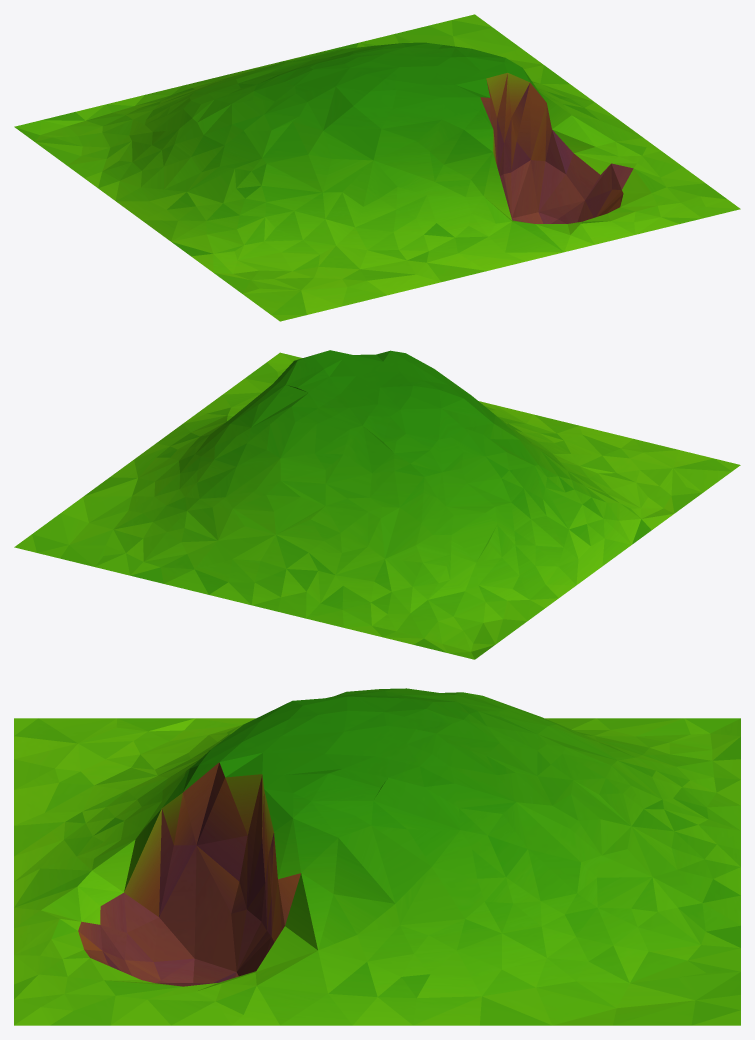
Rendered from GL-Terrain-part-01-LOD2.fbx.
3 views of the same model, one above another, from view 1: azimuth 30°, elevation 25°; view 2: azimuth 150°, elevation 25°; view 3: azimuth 270°, elevation 25° (orthographic). The views are drawn at different scales.
Parts seen in each view (by area): view 1: GL_Terrain_part_01; view 2: GL_Terrain_part_01; view 3: GL_Terrain_part_01.
Part boxes in pixels (bbox=[...]): GL_Terrain_part_01: bbox=[14, 14, 740, 321]; GL_Terrain_part_01: bbox=[14, 350, 740, 659]; GL_Terrain_part_01: bbox=[14, 688, 740, 1025].
Bounding box in the file's own units: 18 × 6.16 × 18.
